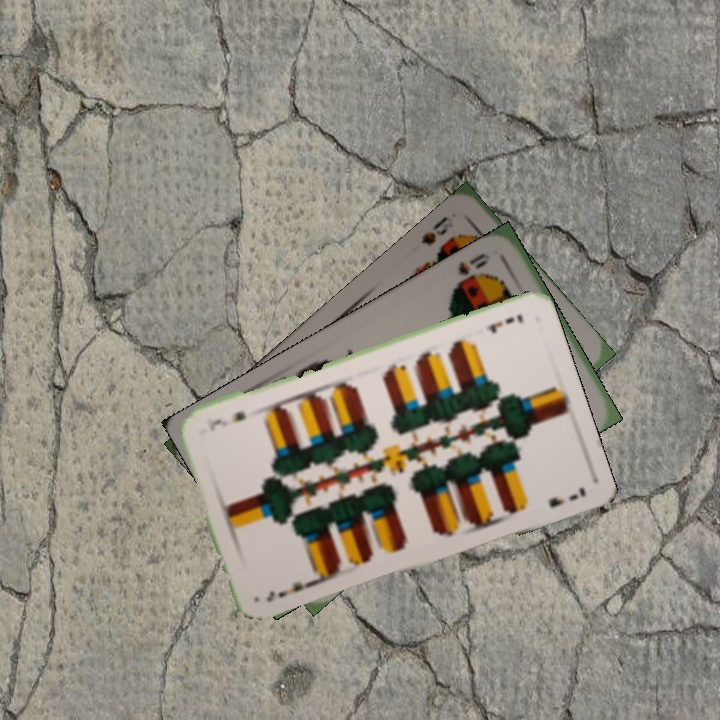E7: (262, 576, 316, 604), (481, 310, 526, 336)
S8: (417, 212, 456, 248)
SO: (454, 249, 493, 278)
